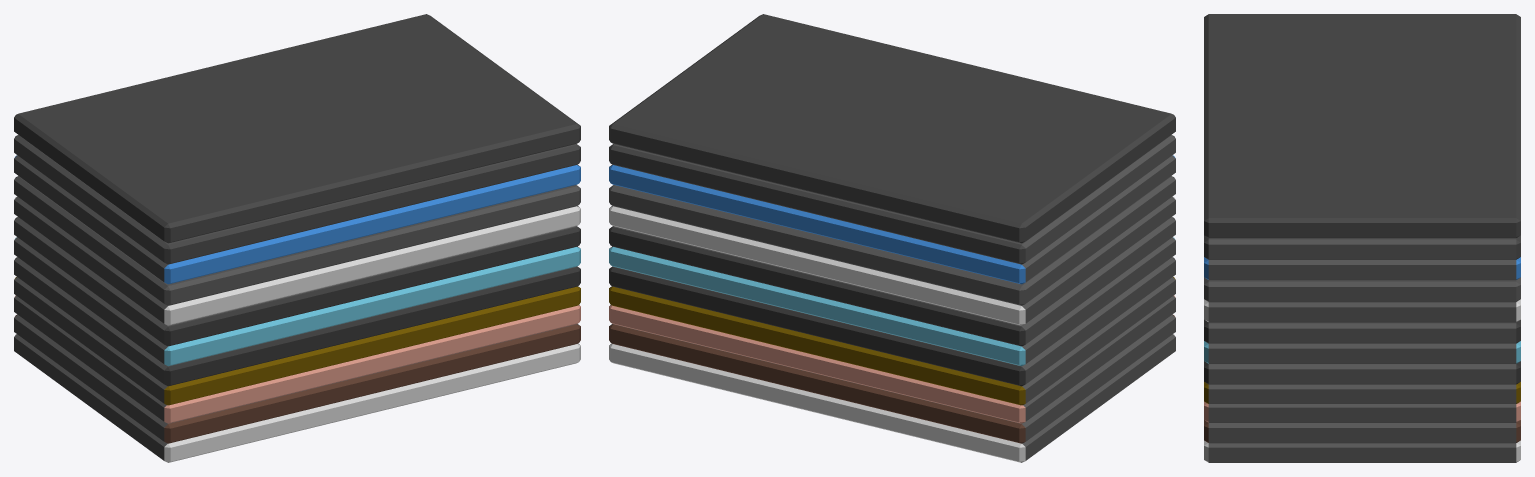
File: DVDs.fbx
The picture shows the model from 3 angles, left to right: view 1: azimuth 30°, elevation 25°; view 2: azimuth 150°, elevation 25°; view 3: azimuth 270°, elevation 25°; orthographic projection. The views are drawn at different scales.
Visible parts, largest first — view 1: Cube.1555; view 2: Cube.1555; view 3: Cube.1555.
Boxes of the visible parts, x1,y1,x2,y2 form: Cube.1555: (14, 14, 580, 462); Cube.1555: (609, 14, 1175, 462); Cube.1555: (1204, 14, 1520, 462).
Bounding box in the file's own units: 16.88 × 9.27 × 10.86.
